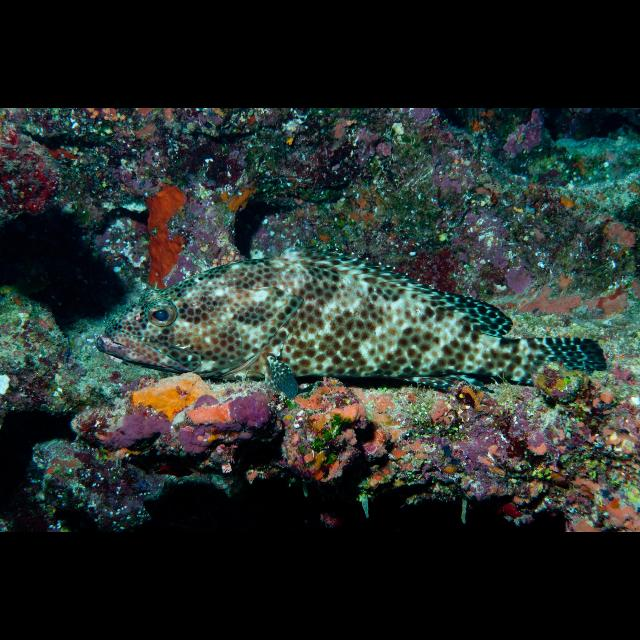Groupers: (95, 253, 618, 402)
